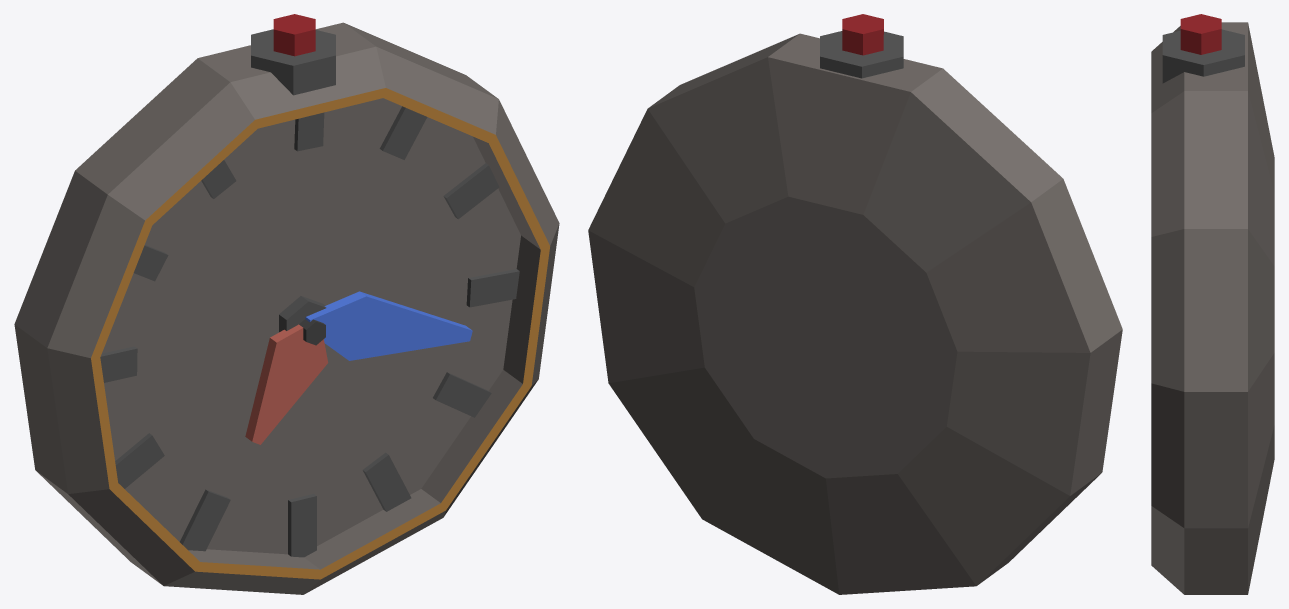
Rendered from timer.fbx.
3 views of the same model, side by side, from view 1: azimuth 30°, elevation 25°; view 2: azimuth 150°, elevation 25°; view 3: azimuth 270°, elevation 25° (orthographic). The views are drawn at different scales.
Parts seen in each view (by area): view 1: Cylinder.003; view 2: Cylinder.003; view 3: Cylinder.003.
Part boxes in pixels (x1,y1,x2,y2): Cylinder.003: (14,14,559,594); Cylinder.003: (588,14,1122,594); Cylinder.003: (1151,14,1274,594).
Size of the model in its own units: 198 by 208 by 42.72.
